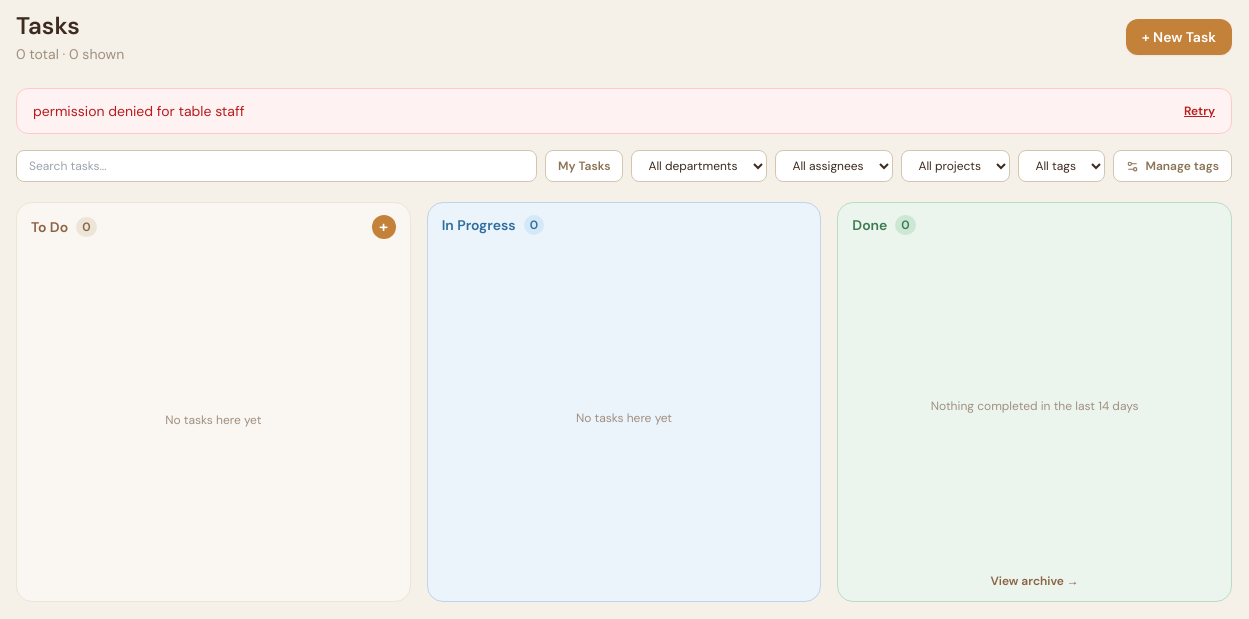
staff 读失败要顶上错误横幅,不能退化成空的指派清单 › recovers the assignee list once Retry succeeds
Expected: the text "permission denied for table staff" is shown, [33, 101, 244, 121]
Click the button "Retry" at (1200, 111), box [1184, 103, 1215, 119]
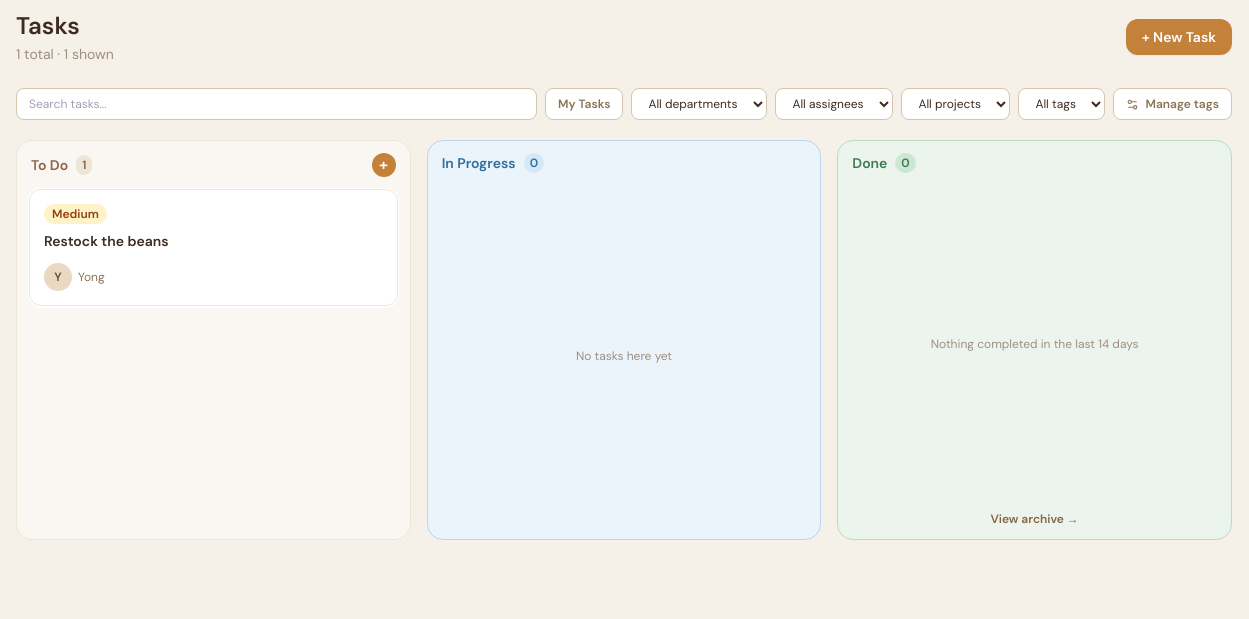
Expected: the text "permission denied for table staff" is gone
